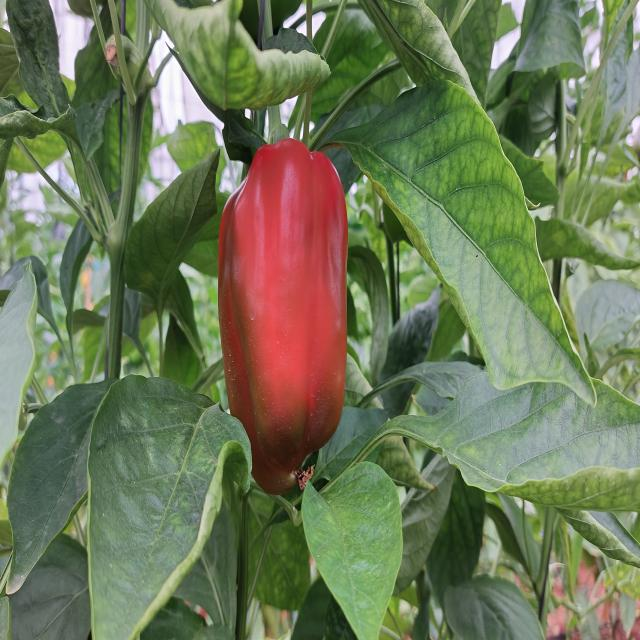Red-Ready-to-Harvest: (212, 138, 358, 496)
